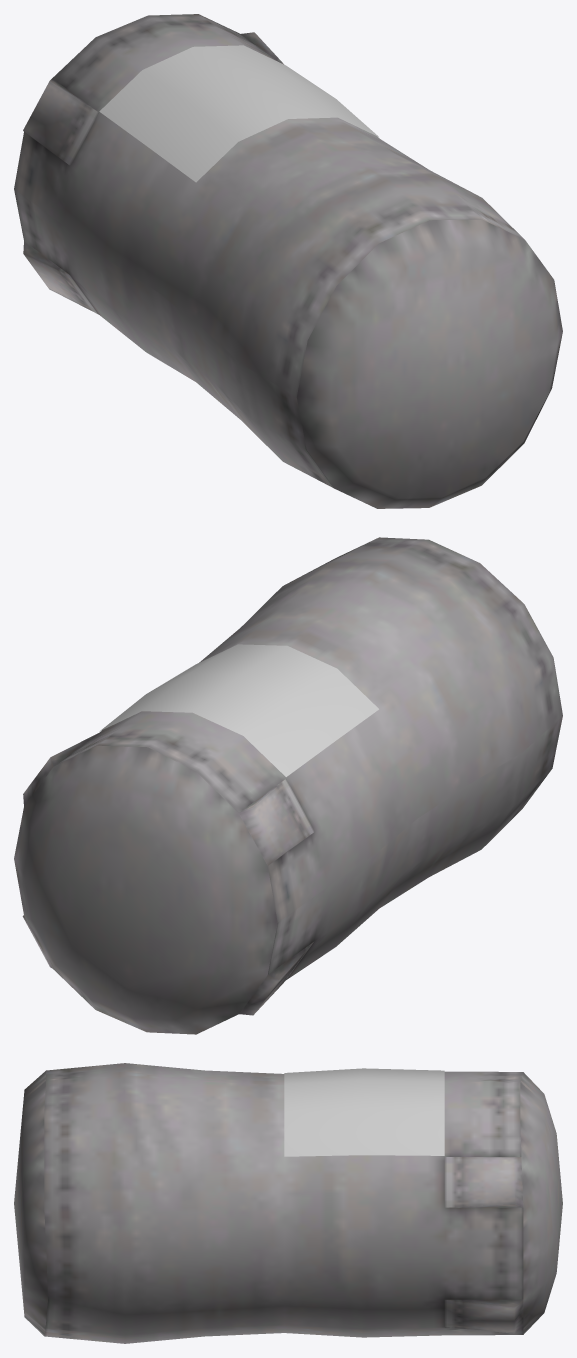
Rendered from ItmSandbag.obj.
The picture shows the model from 3 angles, top to bottom: view 1: azimuth 30°, elevation 25°; view 2: azimuth 150°, elevation 25°; view 3: azimuth 270°, elevation 25°; orthographic projection. The views are drawn at different scales.
Parts seen in each view (by area): view 1: polygon1; view 2: polygon1; view 3: polygon1.
Boxes of the visible parts, box(x1,y1,x2,y2) form: polygon1: box(14, 14, 562, 508); polygon1: box(14, 537, 562, 1034); polygon1: box(14, 1063, 562, 1343).
Bounding box in the file's own units: 8.94 × 9.21 × 17.9.
Materials: 2 (2 with a texture image).
